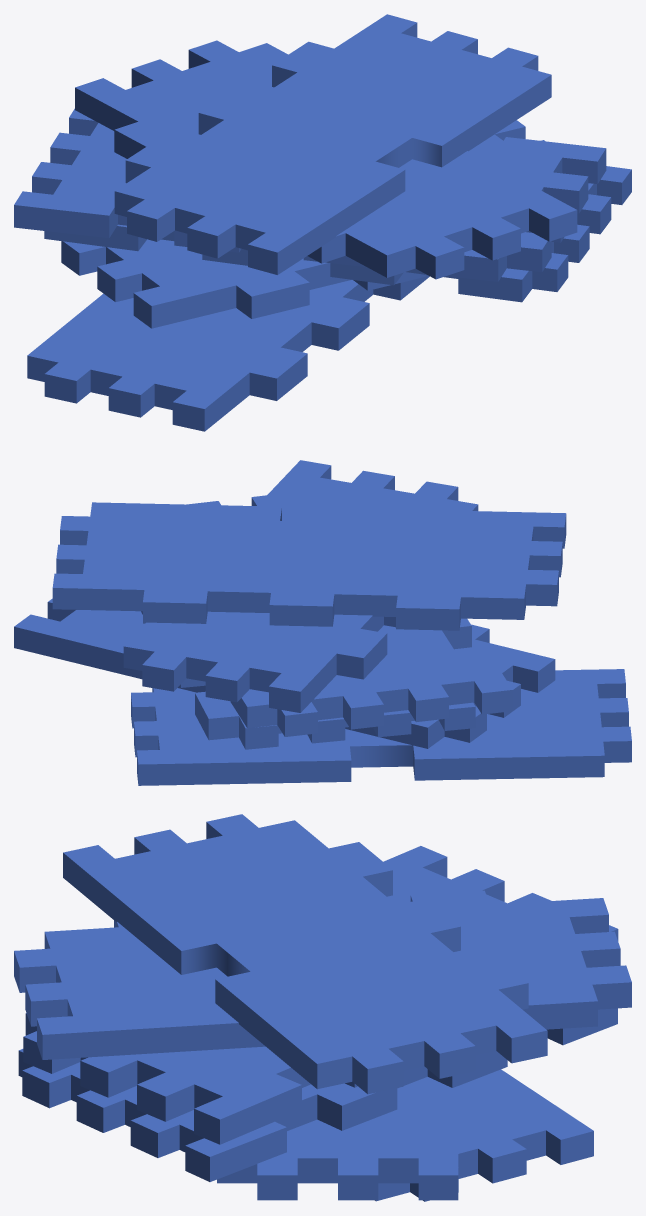
Rendered from puzzle.glb.
3 renders of one model, top to bottom at view 1: azimuth 30°, elevation 25°; view 2: azimuth 150°, elevation 25°; view 3: azimuth 270°, elevation 25°, orthographic. The views are drawn at different scales.
Parts seen in each view (by area): view 1: polySurface141, polySurface143, polySurface139, polySurface140, polySurface138, polySurface142; view 2: polySurface141, polySurface139, polySurface143, polySurface140, polySurface138, polySurface142; view 3: polySurface141, polySurface143, polySurface140, polySurface138, polySurface142, polySurface139.
Boxes of the visible parts, x1,y1,x2,y2 form: polySurface141: [114, 14, 551, 274]; polySurface143: [75, 40, 577, 279]; polySurface139: [27, 275, 429, 431]; polySurface140: [14, 108, 606, 281]; polySurface138: [61, 120, 544, 328]; polySurface142: [44, 166, 631, 302]; polySurface141: [52, 502, 566, 630]; polySurface139: [131, 669, 631, 785]; polySurface143: [123, 460, 478, 712]; polySurface140: [186, 495, 512, 736]; polySurface138: [14, 598, 555, 748]; polySurface142: [141, 611, 475, 749]; polySurface141: [63, 814, 547, 1094]; polySurface143: [14, 890, 631, 1059]; polySurface140: [23, 846, 618, 1144]; polySurface138: [217, 1076, 458, 1200]; polySurface142: [18, 1008, 617, 1181]; polySurface139: [375, 1069, 593, 1201].
Size of the model in its own units: 0.1907 by 0.0532 by 0.1599.
